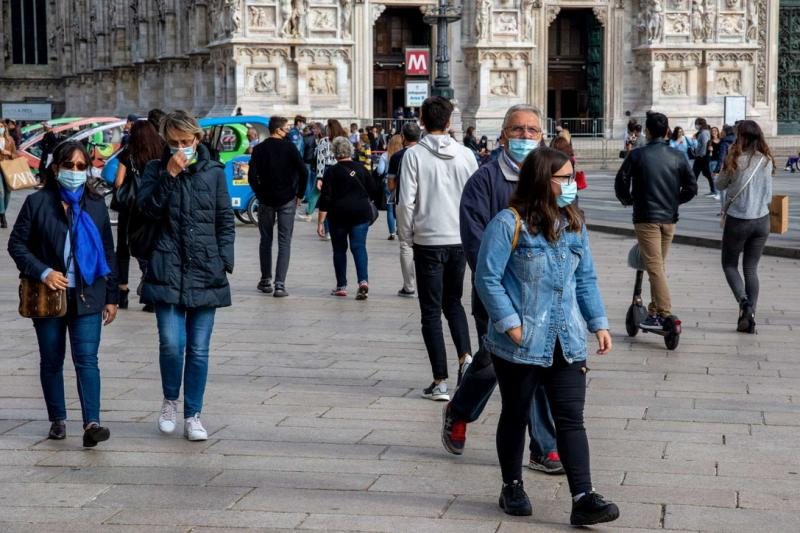with_incorrect_mask: (509, 117, 535, 152)
with_mask: (542, 168, 582, 205), (58, 156, 89, 197), (167, 132, 191, 162)
